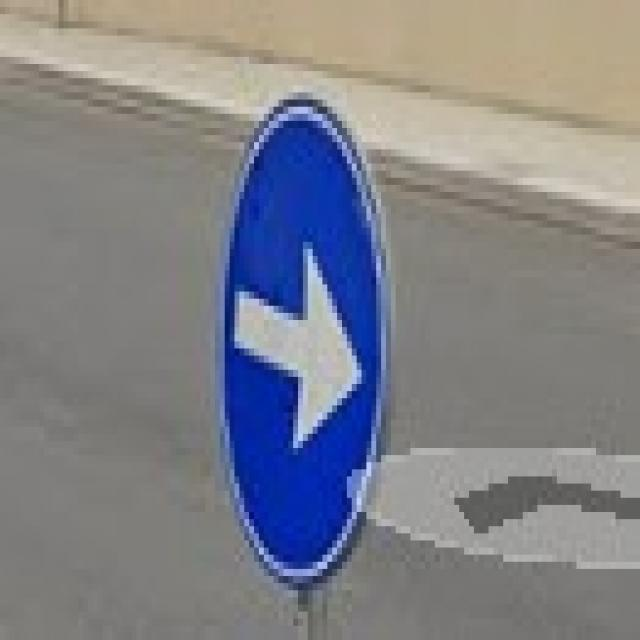Turn Right: (228, 94, 375, 592)
